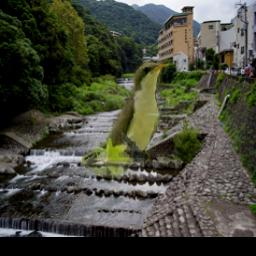Cuckoo: (82, 59, 170, 179)
